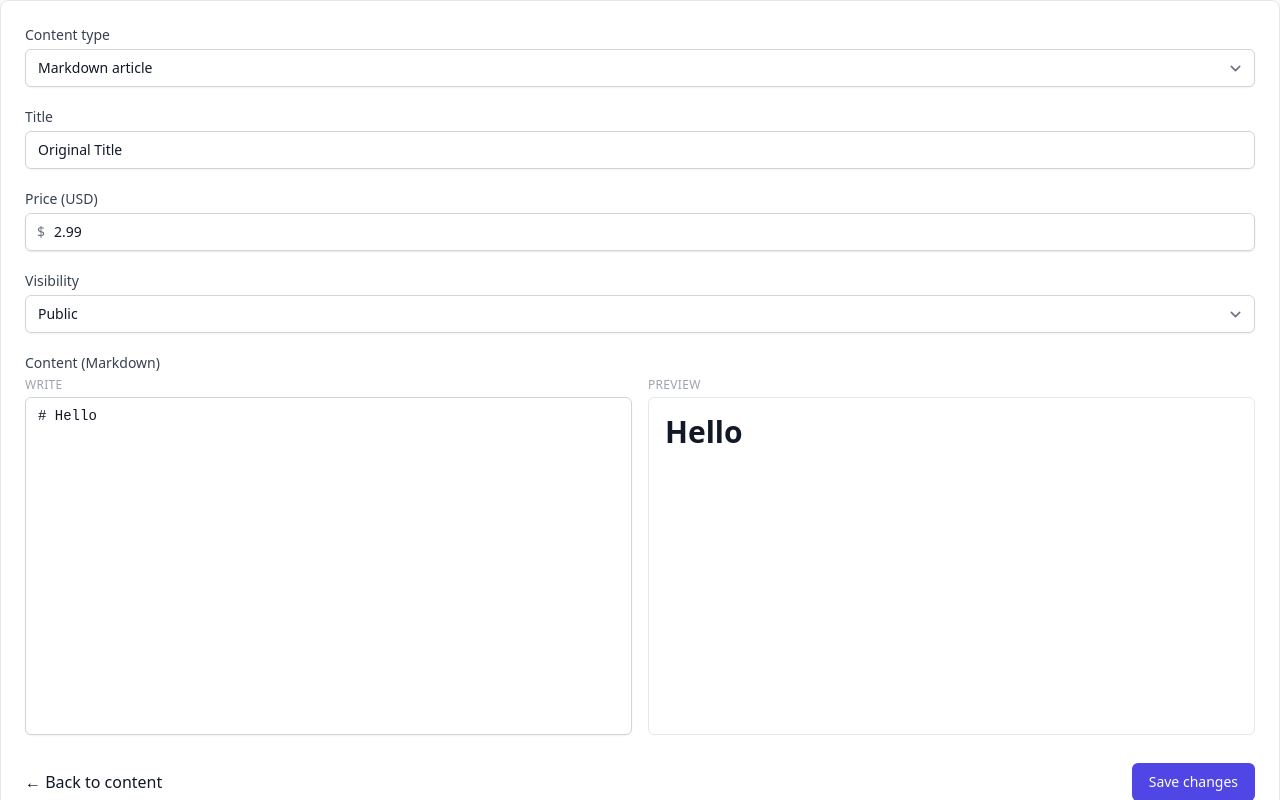
it: EditContentForm › validates price: shows error for negative values without fetching
Replace the text in the number field labelled "Price (USD)" with "-5" at (640, 232), box [25,213,1255,251]
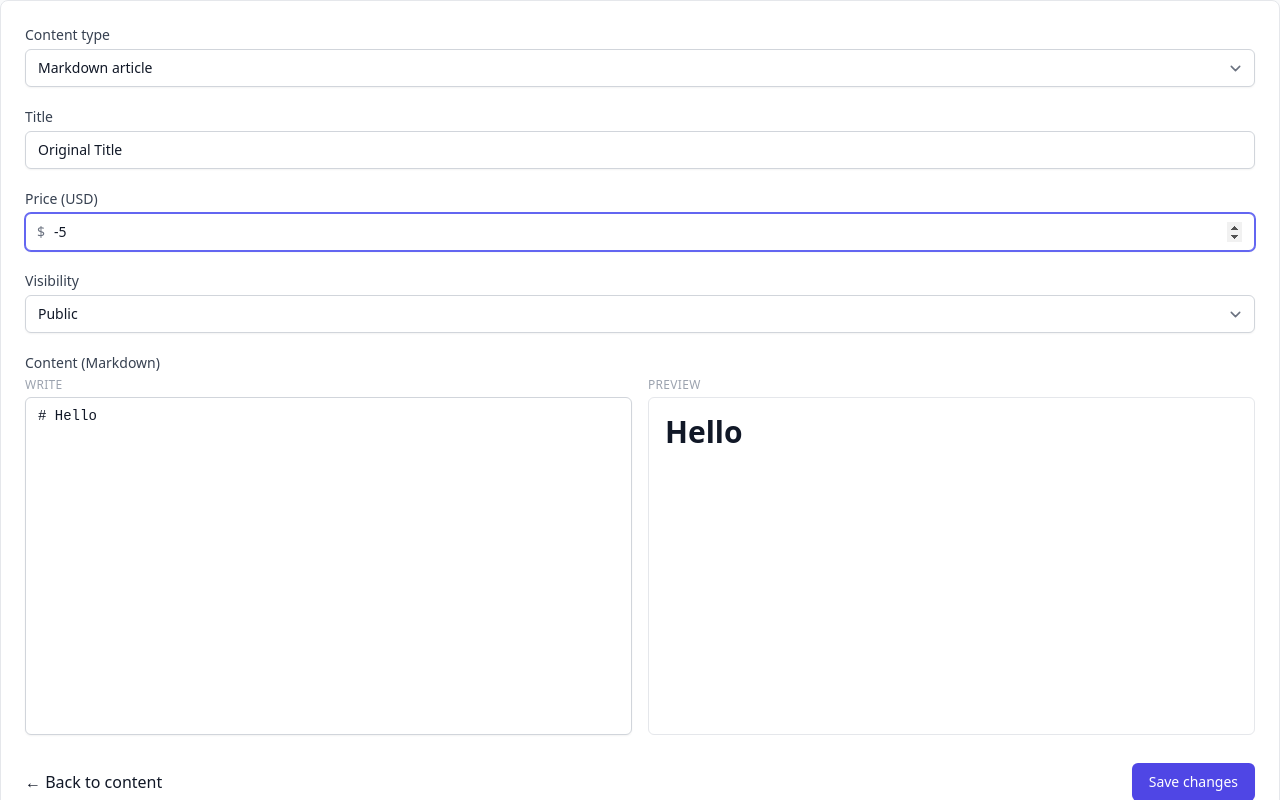
Click the button "Save changes" at (1193, 782), box [1132,763,1255,799]
(page scrolled)
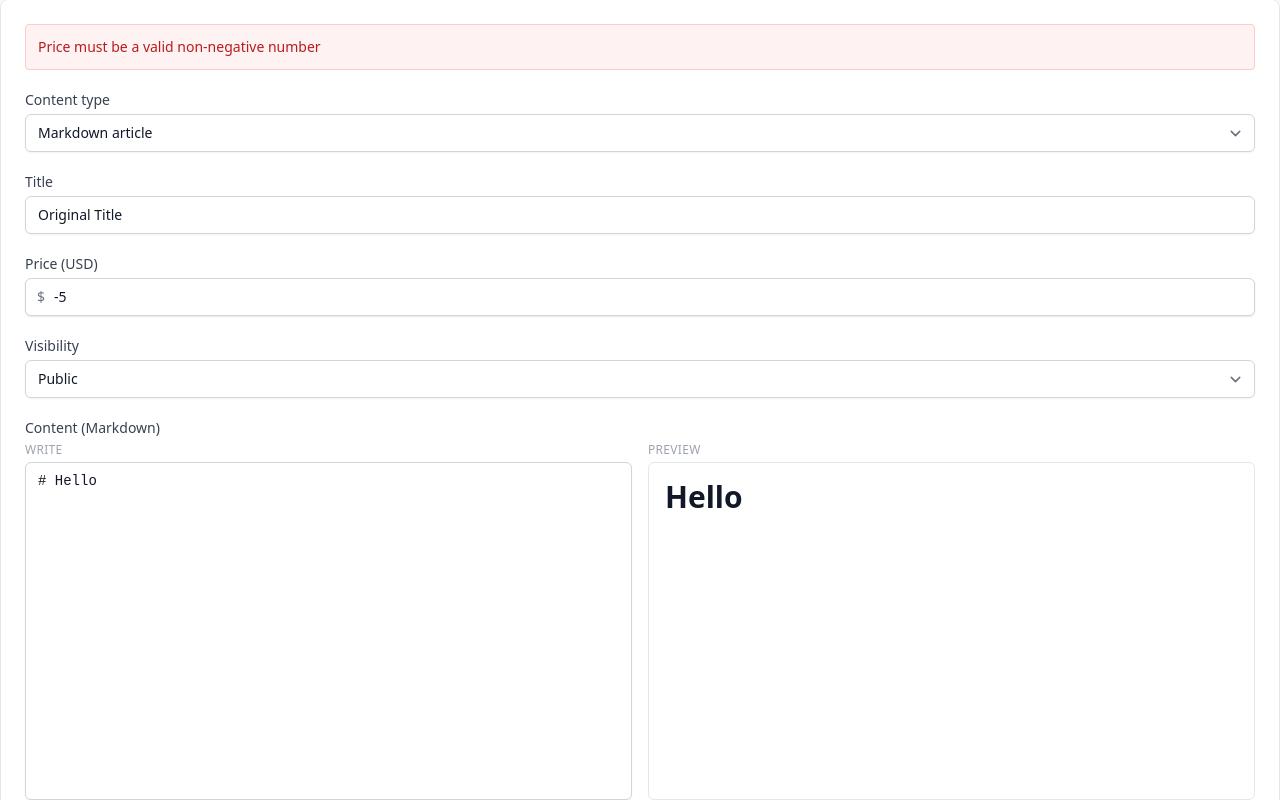
Expected: the message shows "valid non-negative", [38,37,321,56]
